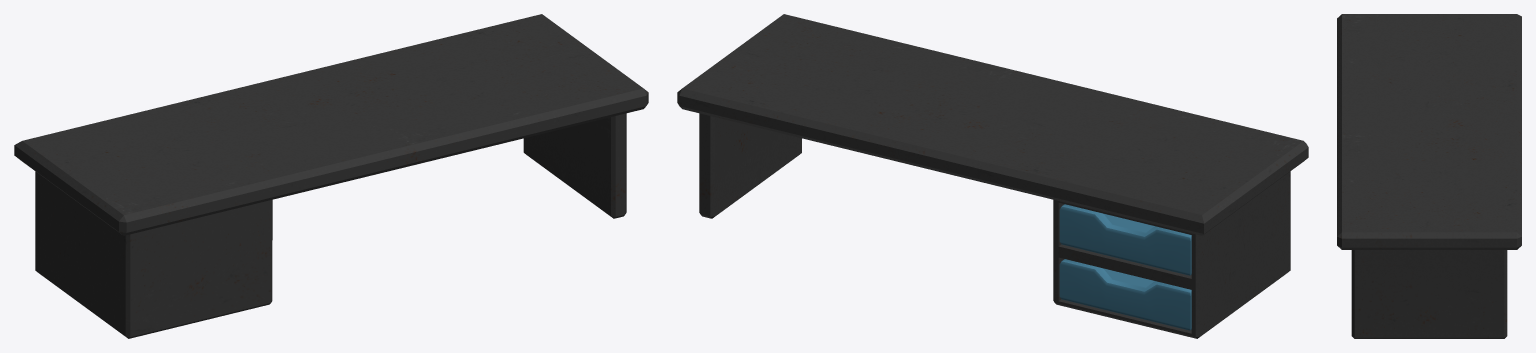
The model's file is Table.fbx.
3 views of the same model, side by side, from view 1: azimuth 30°, elevation 25°; view 2: azimuth 150°, elevation 25°; view 3: azimuth 270°, elevation 25° (orthographic). The views are drawn at different scales.
Visible parts, largest first — view 1: pCube25; view 2: pCube25, pCube26, pCube27; view 3: pCube25.
Part boxes in pixels (x1,y1,x2,y2): pCube25: (14,14,648,338); pCube25: (677,14,1308,338); pCube26: (1059,259,1191,330); pCube27: (1059,204,1191,275); pCube25: (1337,14,1521,338).
Bounding box in the file's own units: 2.13 × 0.5005 × 0.7476.
